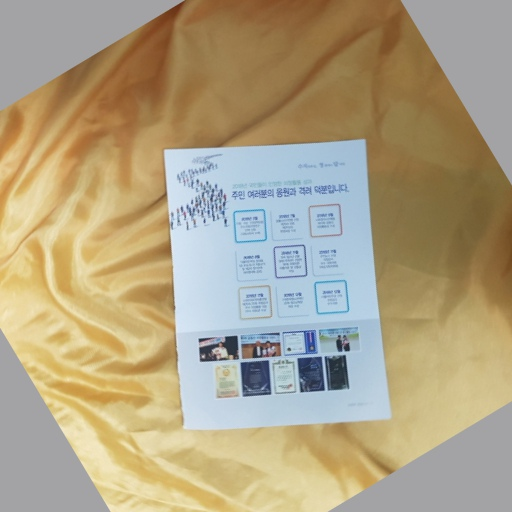Paper_2: (151, 136, 398, 433)
